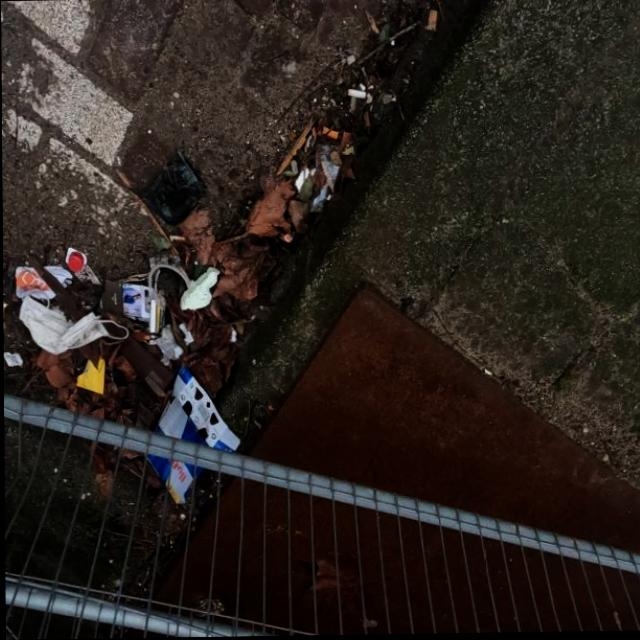Mask: (16, 289, 128, 356)
Paper: (100, 277, 164, 336), (178, 265, 220, 312)
Plastic: (139, 148, 204, 226), (13, 264, 73, 301)
